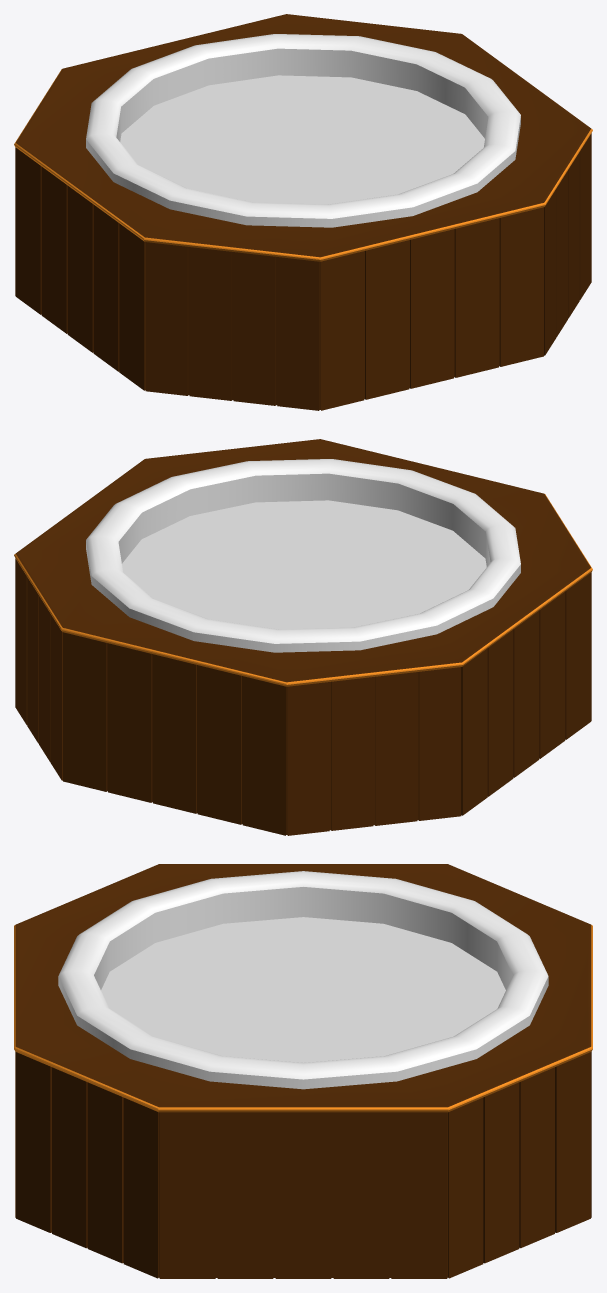
File: Spa.fbx
3 views of the same model, one above another, from view 1: azimuth 30°, elevation 25°; view 2: azimuth 150°, elevation 25°; view 3: azimuth 270°, elevation 25° (orthographic). The views are drawn at different scales.
Parts seen in each view (by area): view 1: Cube, Plane; view 2: Cube, Plane; view 3: Cube, Plane.
Boxes of the visible parts, <box> form: Cube: <box>14,14,592,410</box>; Plane: <box>120,75,484,204</box>; Cube: <box>14,439,592,835</box>; Plane: <box>122,500,486,629</box>; Cube: <box>14,864,592,1278</box>; Plane: <box>101,917,505,1062</box>.
Bounding box in the file's own units: 612 × 217 × 612.
